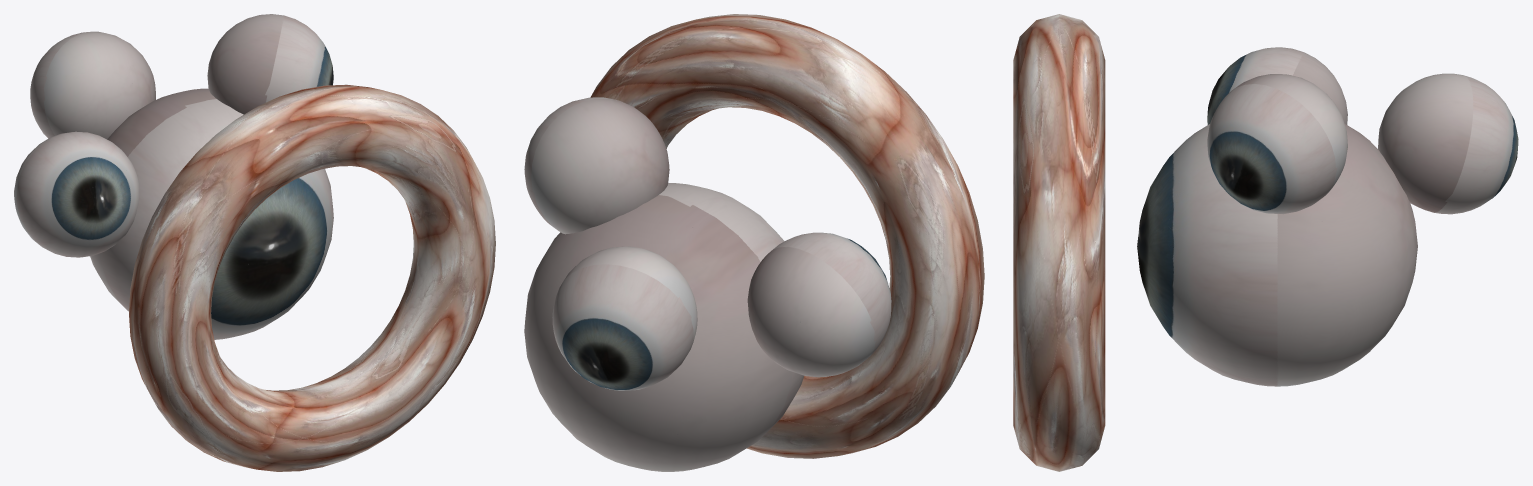
The model's file is Boss Eye.fbx.
3 views of the same model, side by side, from view 1: azimuth 30°, elevation 25°; view 2: azimuth 150°, elevation 25°; view 3: azimuth 270°, elevation 25° (orthographic). The views are drawn at different scales.
Parts seen in each view (by area): view 1: Boss Eye Shot, Boss Eye; view 2: Boss Eye, Boss Eye Shot; view 3: Boss Eye, Boss Eye Shot.
Part boxes in pixels (<box>): Boss Eye Shot: <box>129,84,495,471</box>; Boss Eye: <box>14,14,333,339</box>; Boss Eye: <box>524,97,891,471</box>; Boss Eye Shot: <box>590,14,984,458</box>; Boss Eye: <box>1137,47,1518,386</box>; Boss Eye Shot: <box>1013,14,1105,471</box>.
Size of the model in its own units: 248 by 238 by 262.
